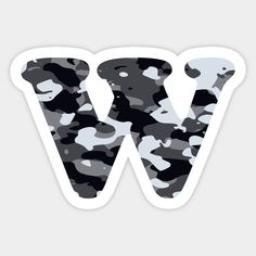w: (12, 46, 246, 214)
